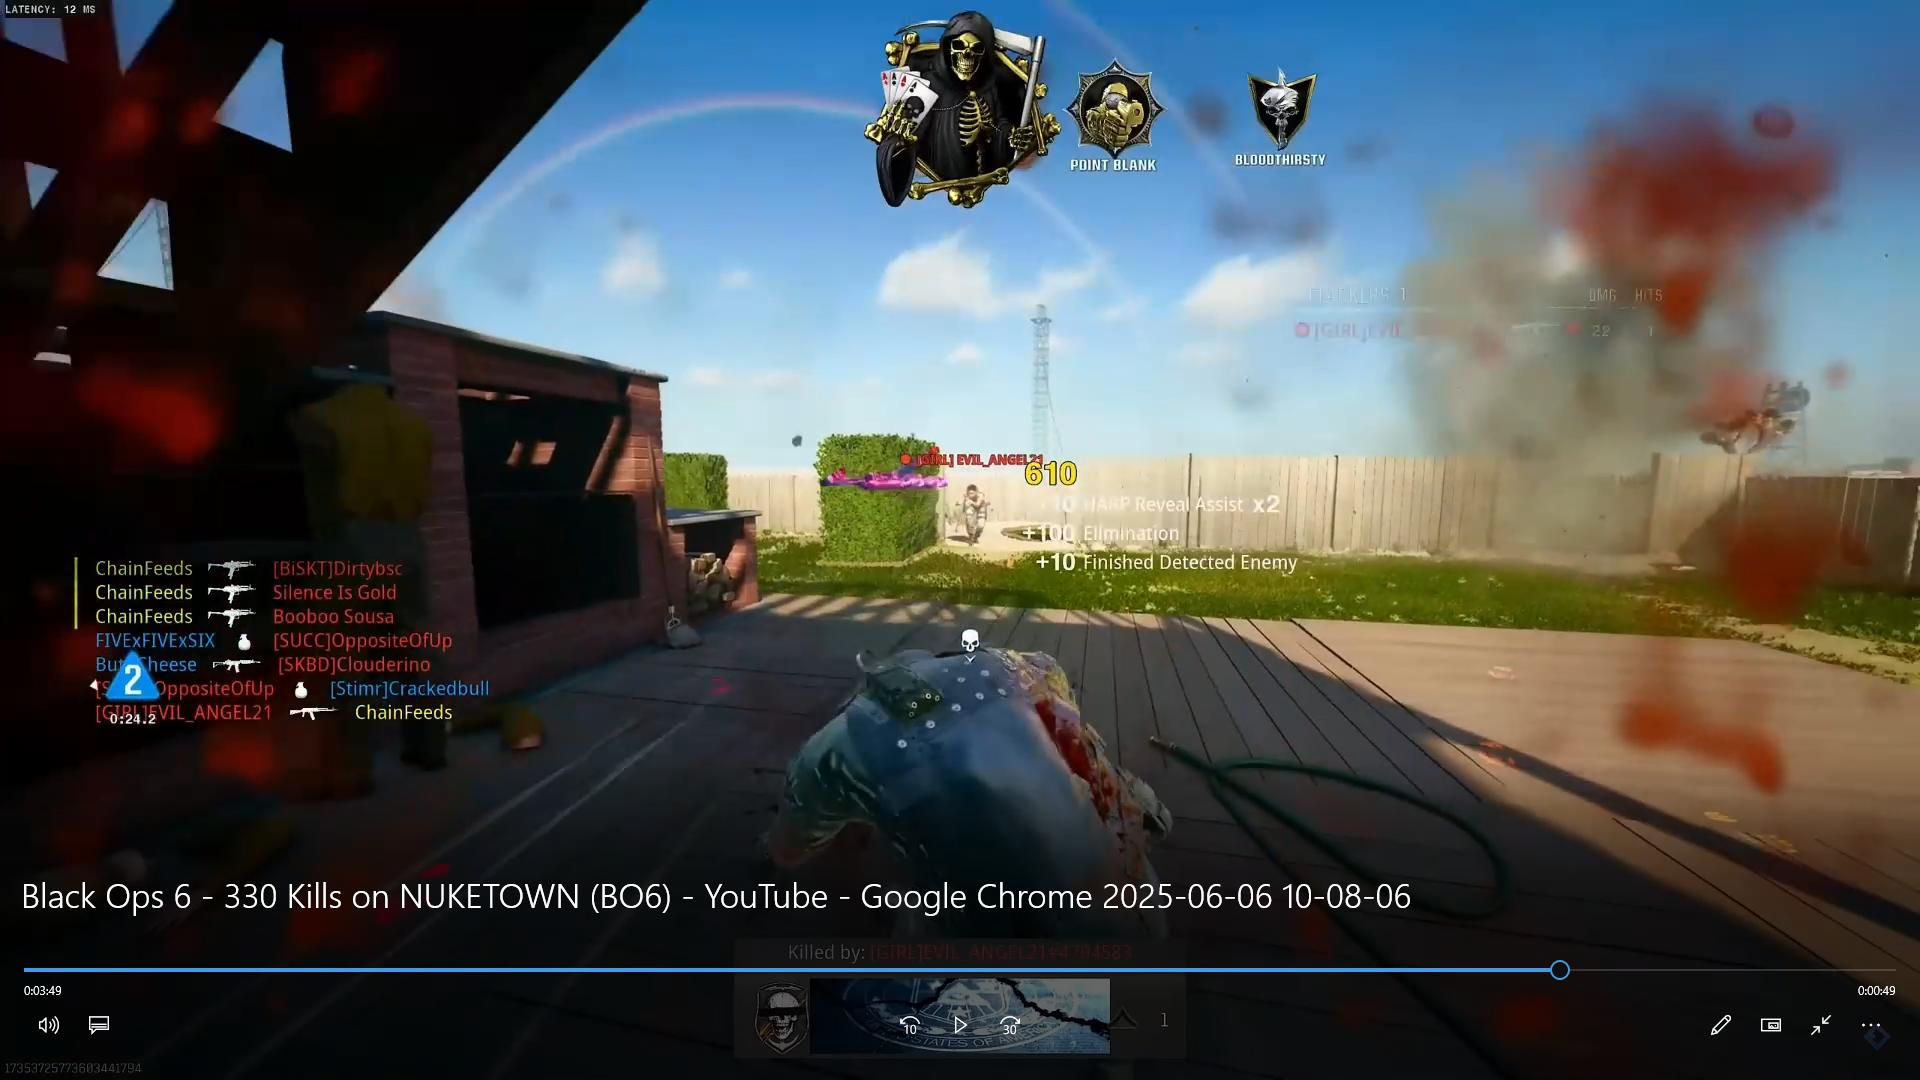Enemy: (897, 433, 1058, 568)
